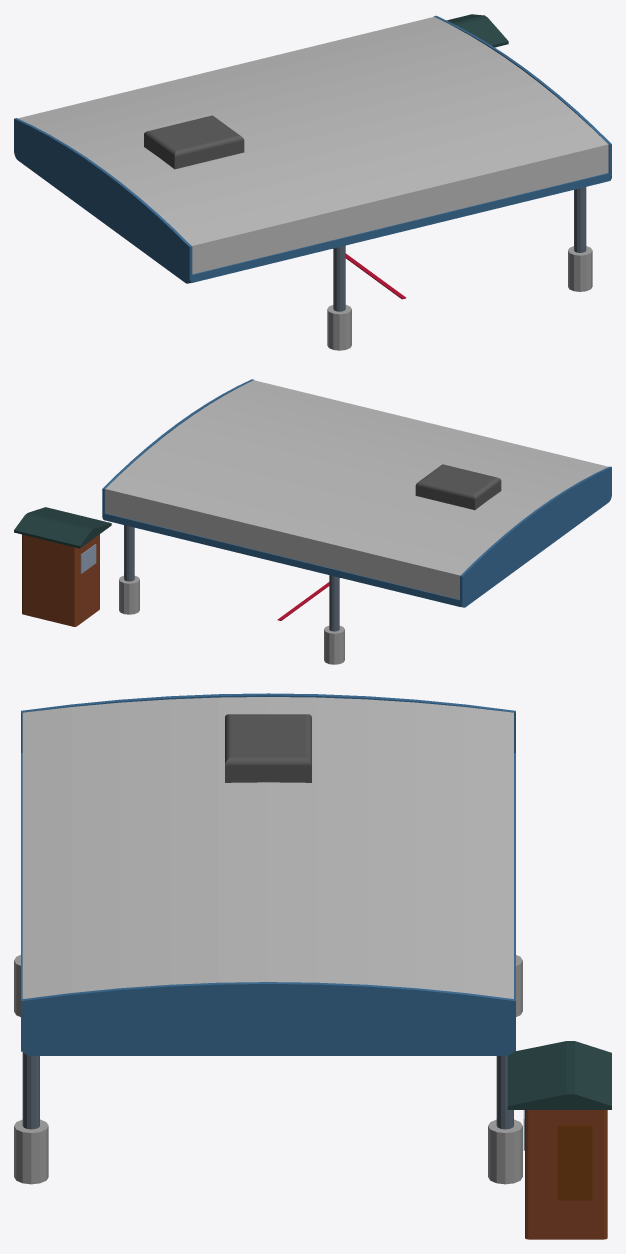
The model's file is lift_terminal_8pack.obj.
3 renders of one model, top to bottom at view 1: azimuth 30°, elevation 25°; view 2: azimuth 150°, elevation 25°; view 3: azimuth 270°, elevation 25°, orthographic. The views are drawn at different scales.
Size of the model in its own units: 18.4 by 5.92 by 13.75.
